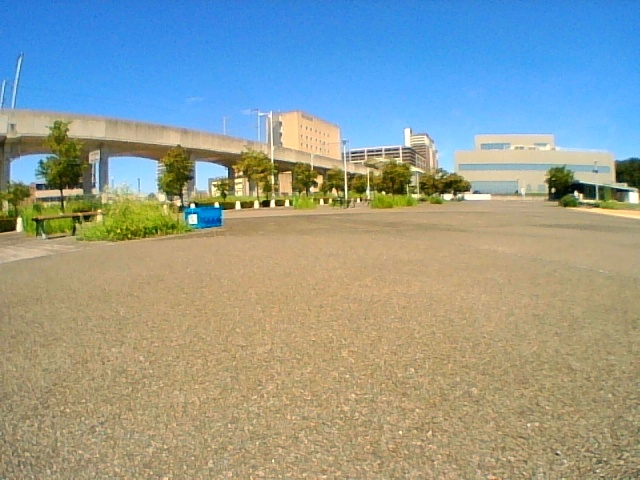blue_box: (187, 208, 221, 228)
tag: (189, 215, 197, 225)
